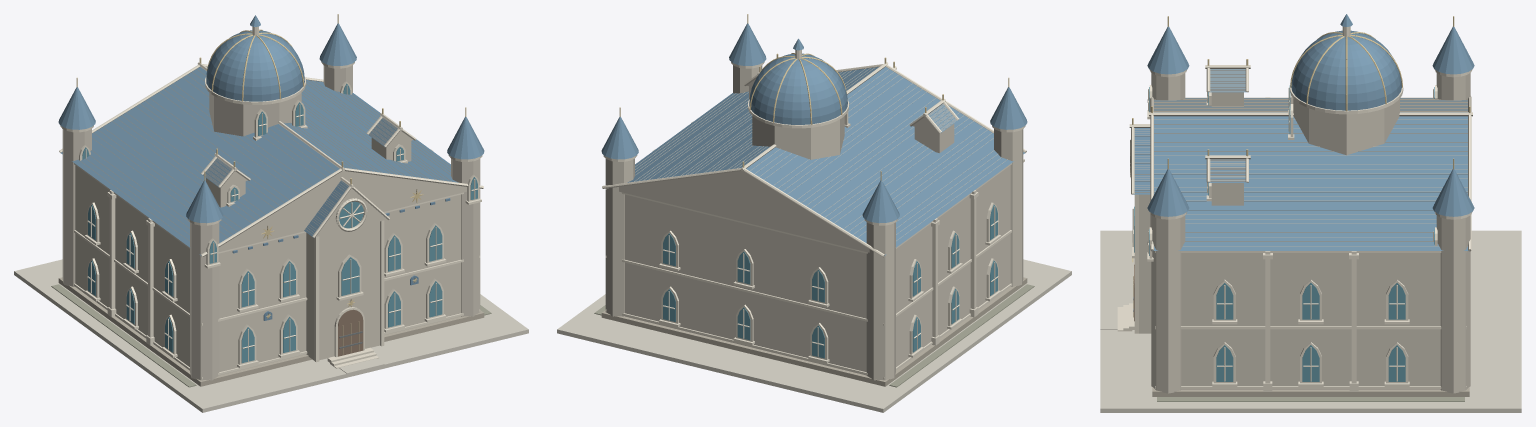
File: ArcaneAcademy_Lv5.fbx
3 views of the same model, side by side, from view 1: azimuth 30°, elevation 25°; view 2: azimuth 150°, elevation 25°; view 3: azimuth 270°, elevation 25° (orthographic). The views are drawn at different scales.
Parts seen in each view (by area): view 1: Roof surfaces.015, Main school walls.015, Fixed 26m plot.015, Corner turret.002, Projecting entrance bay.015, Gable infill.010, Window glass.015, Roof courses.010, Blue central dome.004, Window frame.015, Turret spire.002, School foundation.015 (+14 smaller); view 2: Main school walls.015, Roof surfaces.015, Fixed 26m plot.015, Corner turret.002, Gable infill.010, Blue central dome.004, Roof courses.010, Turret spire.002, Window glass.015, School foundation.015, Stone stringcourse.015, Window frame.015 (+9 smaller); view 3: Roof surfaces.015, Main school walls.015, Fixed 26m plot.015, Corner turret.002, Roof courses.010, Blue central dome.004, Turret spire.002, Octagonal observatory drum.004, Window glass.015, Window frame.015, School foundation.015, Stone stringcourse.015 (+14 smaller).
Boxes of the visible parts, x1=… form: Roof surfaces.015: x1=61, y1=67, x2=458, y2=255; Main school walls.015: x1=75, y1=165, x2=461, y2=375; Fixed 26m plot.015: x1=14, y1=259, x2=528, y2=412; Corner turret.002: x1=62, y1=65, x2=480, y2=380; Projecting entrance bay.015: x1=306, y1=221, x2=379, y2=360; Gable infill.010: x1=218, y1=130, x2=466, y2=251; Window glass.015: x1=82, y1=83, x2=477, y2=363; Roof courses.010: x1=78, y1=69, x2=451, y2=240; Blue central dome.004: x1=206, y1=30, x2=304, y2=101; Window frame.015: x1=79, y1=81, x2=479, y2=364; Turret spire.002: x1=58, y1=23, x2=484, y2=223; School foundation.015: x1=58, y1=277, x2=484, y2=386; Main school walls.015: x1=624, y1=165, x2=1010, y2=375; Roof surfaces.015: x1=627, y1=67, x2=1024, y2=255; Fixed 26m plot.015: x1=557, y1=259, x2=1071, y2=412; Corner turret.002: x1=605, y1=65, x2=1023, y2=380; Gable infill.010: x1=607, y1=79, x2=937, y2=252; Blue central dome.004: x1=749, y1=53, x2=847, y2=124; Roof courses.010: x1=634, y1=67, x2=1007, y2=240; Turret spire.002: x1=601, y1=23, x2=1027, y2=223; Window glass.015: x1=663, y1=205, x2=997, y2=358; School foundation.015: x1=601, y1=277, x2=1027, y2=386; Stone stringcourse.015: x1=605, y1=163, x2=1011, y2=379; Window frame.015: x1=661, y1=111, x2=998, y2=359; Roof surfaces.015: x1=1133, y1=69, x2=1469, y2=250; Main school walls.015: x1=1181, y1=253, x2=1440, y2=389; Fixed 26m plot.015: x1=1100, y1=230, x2=1521, y2=412; Corner turret.002: x1=1151, y1=73, x2=1470, y2=393; Roof courses.010: x1=1134, y1=69, x2=1467, y2=246; Blue central dome.004: x1=1291, y1=30, x2=1401, y2=110; Turret spire.002: x1=1147, y1=26, x2=1474, y2=216; Octagonal observatory drum.004: x1=1293, y1=99, x2=1399, y2=155; Window glass.015: x1=1134, y1=85, x2=1434, y2=381; Window frame.015: x1=1149, y1=85, x2=1437, y2=383; School foundation.015: x1=1152, y1=387, x2=1469, y2=396; Stone stringcourse.015: x1=1155, y1=251, x2=1466, y2=388.
Bounding box in the file's own units: 26 × 21.1 × 26.
